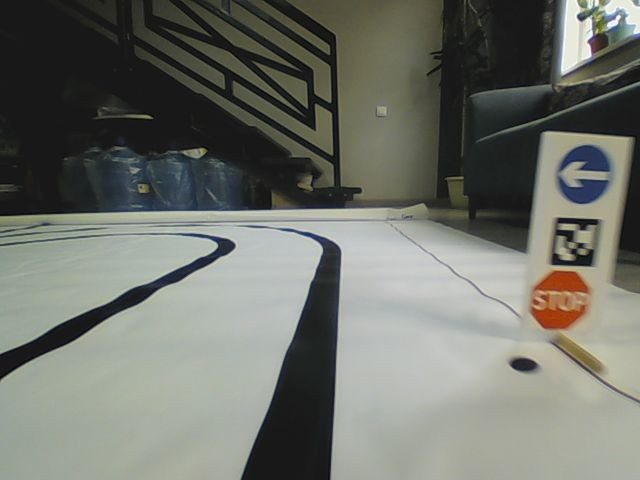Stop: (527, 268, 593, 331)
